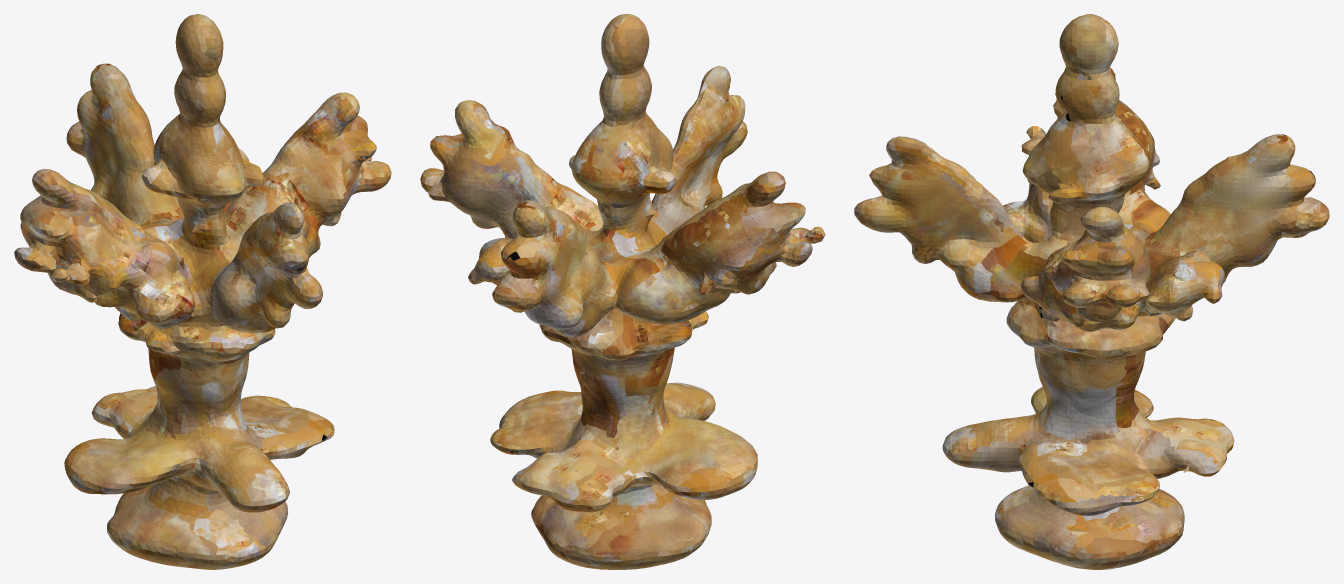
The model's file is Tarma.fbx.
The picture shows the model from 3 angles, left to right: view 1: azimuth 30°, elevation 25°; view 2: azimuth 150°, elevation 25°; view 3: azimuth 270°, elevation 25°; orthographic projection.
Visible parts, largest first — view 1: tarma; view 2: tarma; view 3: tarma.
Part boxes in pixels (<box>): tarma: <box>14,14,391,569</box>; tarma: <box>420,14,825,569</box>; tarma: <box>854,14,1329,569</box>.
Bounding box in the file's own units: 101 × 140 × 113.
Materials: 1 (1 with a texture image).
